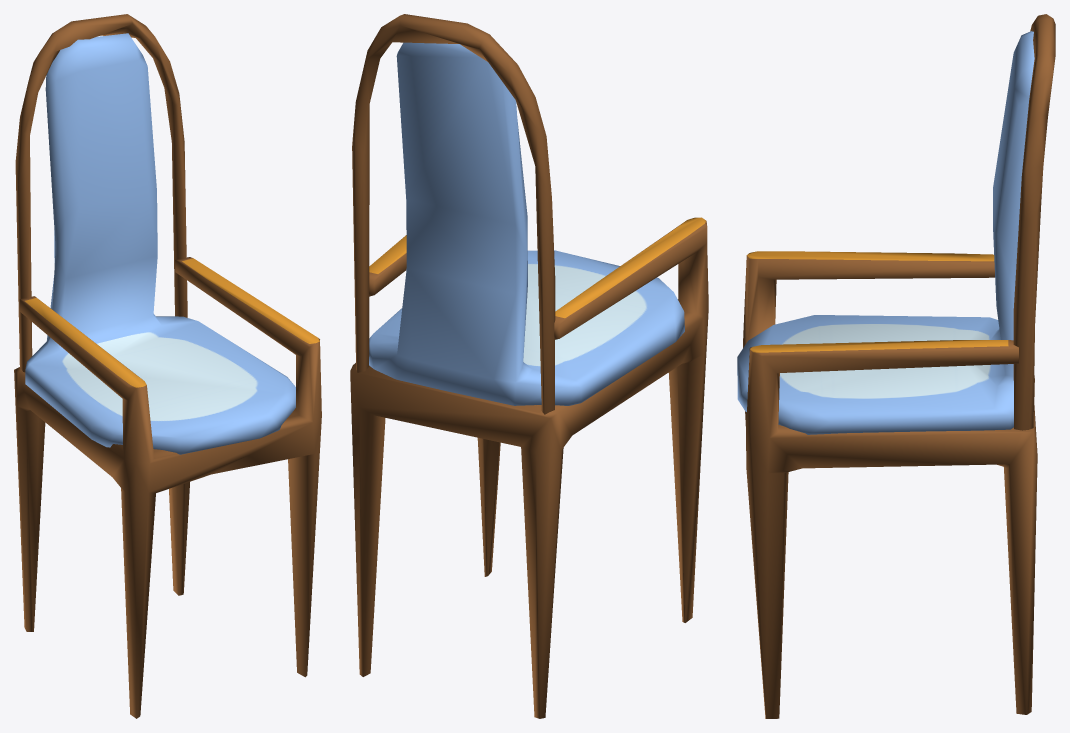
The model's file is chairDeck.fbx.
3 renders of one model, left to right at view 1: azimuth 30°, elevation 25°; view 2: azimuth 150°, elevation 25°; view 3: azimuth 270°, elevation 25°, orthographic. The views are drawn at different scales.
Visible parts, largest first — view 1: deck_chair; view 2: deck_chair; view 3: deck_chair.
Part boxes in pixels (x1=…): deck_chair: x1=14, y1=14, x2=321, y2=718; deck_chair: x1=350, y1=14, x2=708, y2=718; deck_chair: x1=737, y1=14, x2=1055, y2=718.
Size of the model in its own units: 2.6 by 7.34 by 3.29.
Materials: 3 (3 with a texture image).
